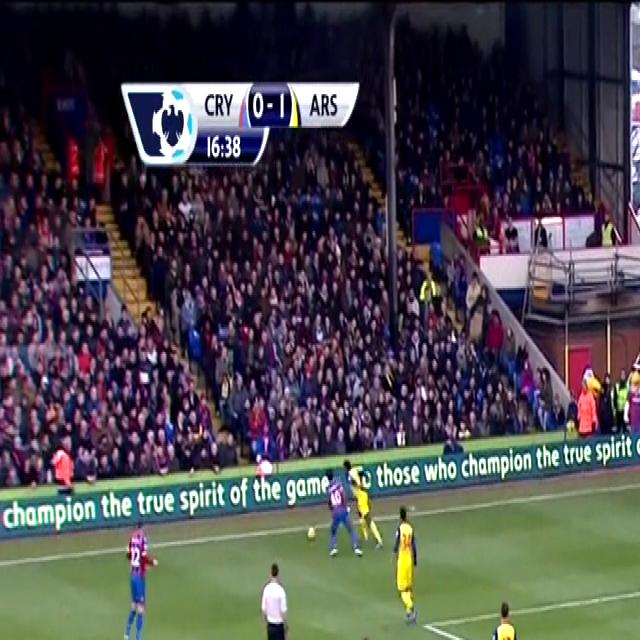ball: (298, 527, 320, 552)
referee: (247, 560, 306, 640)
soccer-player: (110, 515, 172, 640), (388, 504, 432, 633), (466, 597, 533, 640), (346, 458, 381, 532), (322, 469, 346, 558), (338, 633, 404, 640)
